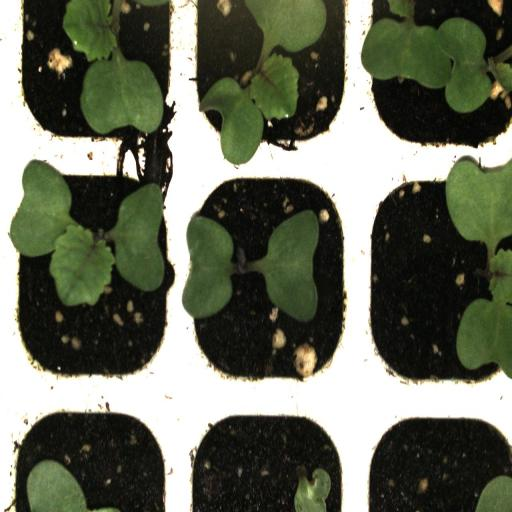seedling: (180, 161, 358, 394), (6, 157, 181, 390), (359, 162, 512, 399), (182, 0, 359, 166), (6, 0, 181, 158)
twoseedling: (359, 0, 512, 168)
